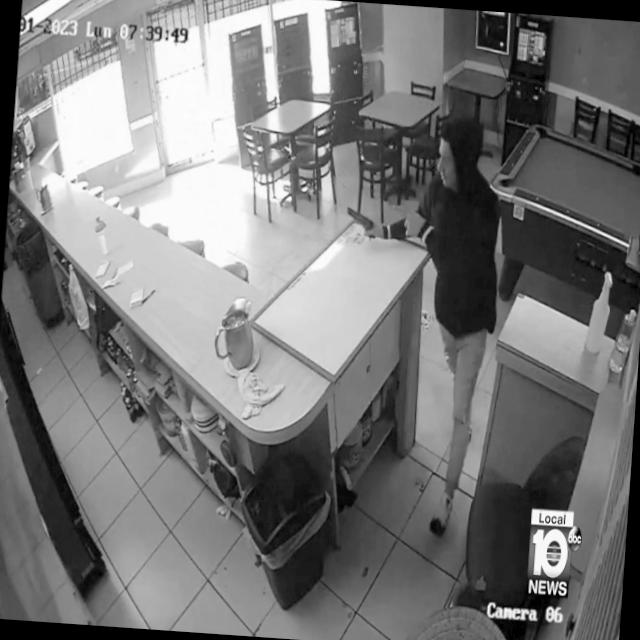gun: (344, 204, 378, 242)
person with a gun: (323, 105, 510, 539)
